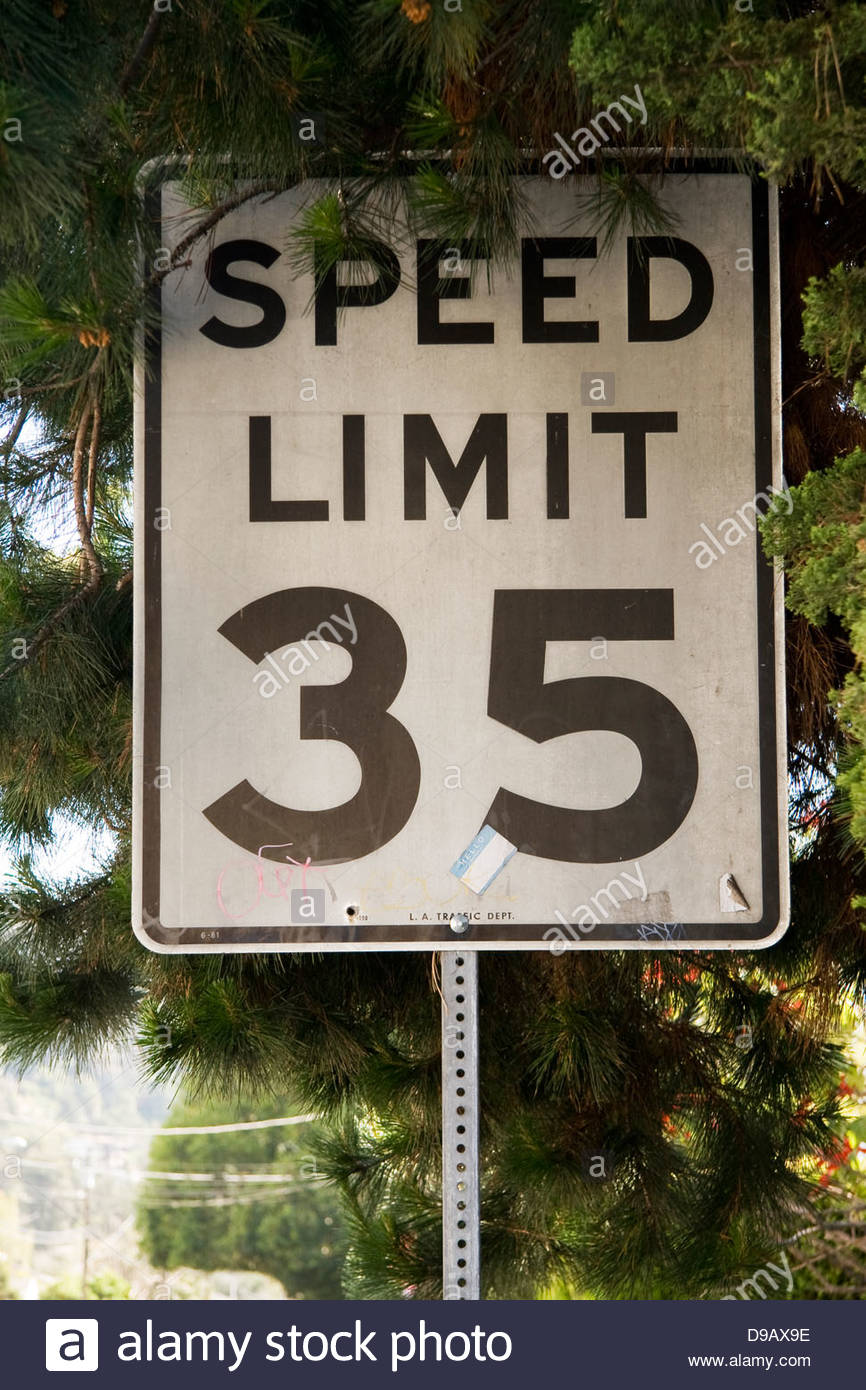speed limit: (146, 151, 762, 935)
